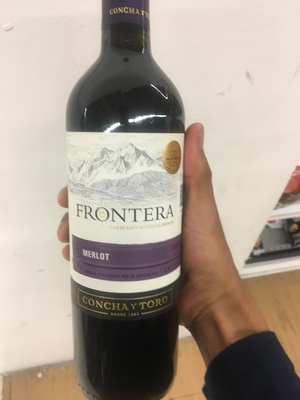frontera merlot: (68, 18, 207, 389)
